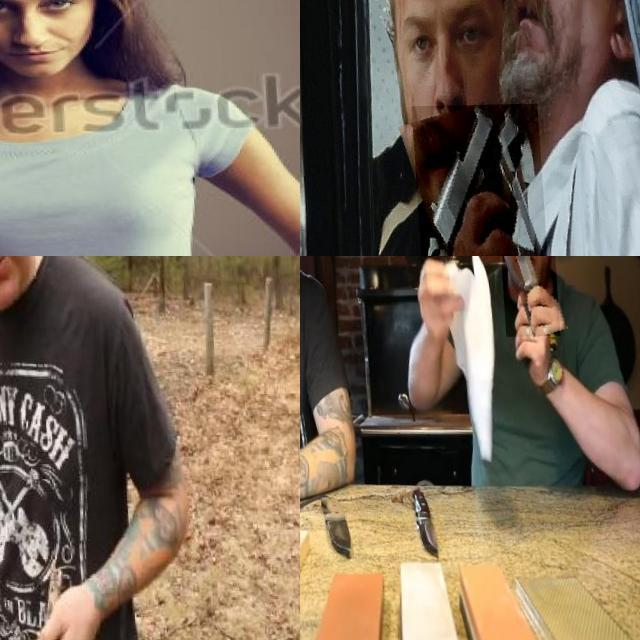-: (0, 0, 70, 194), (0, 540, 76, 634), (495, 256, 556, 339)
gun-knife-thesis - v11 Yolov5 augmented: (407, 105, 545, 256)
